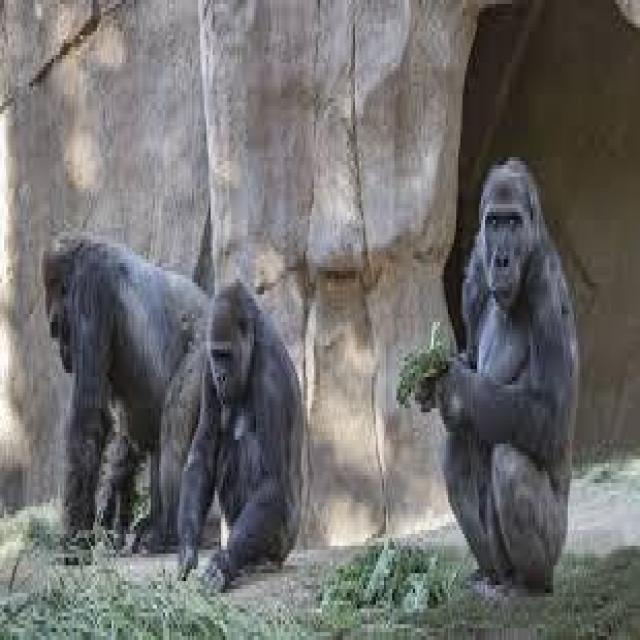Gorilla: (404, 128, 614, 568), (34, 181, 208, 577), (172, 200, 340, 605)
